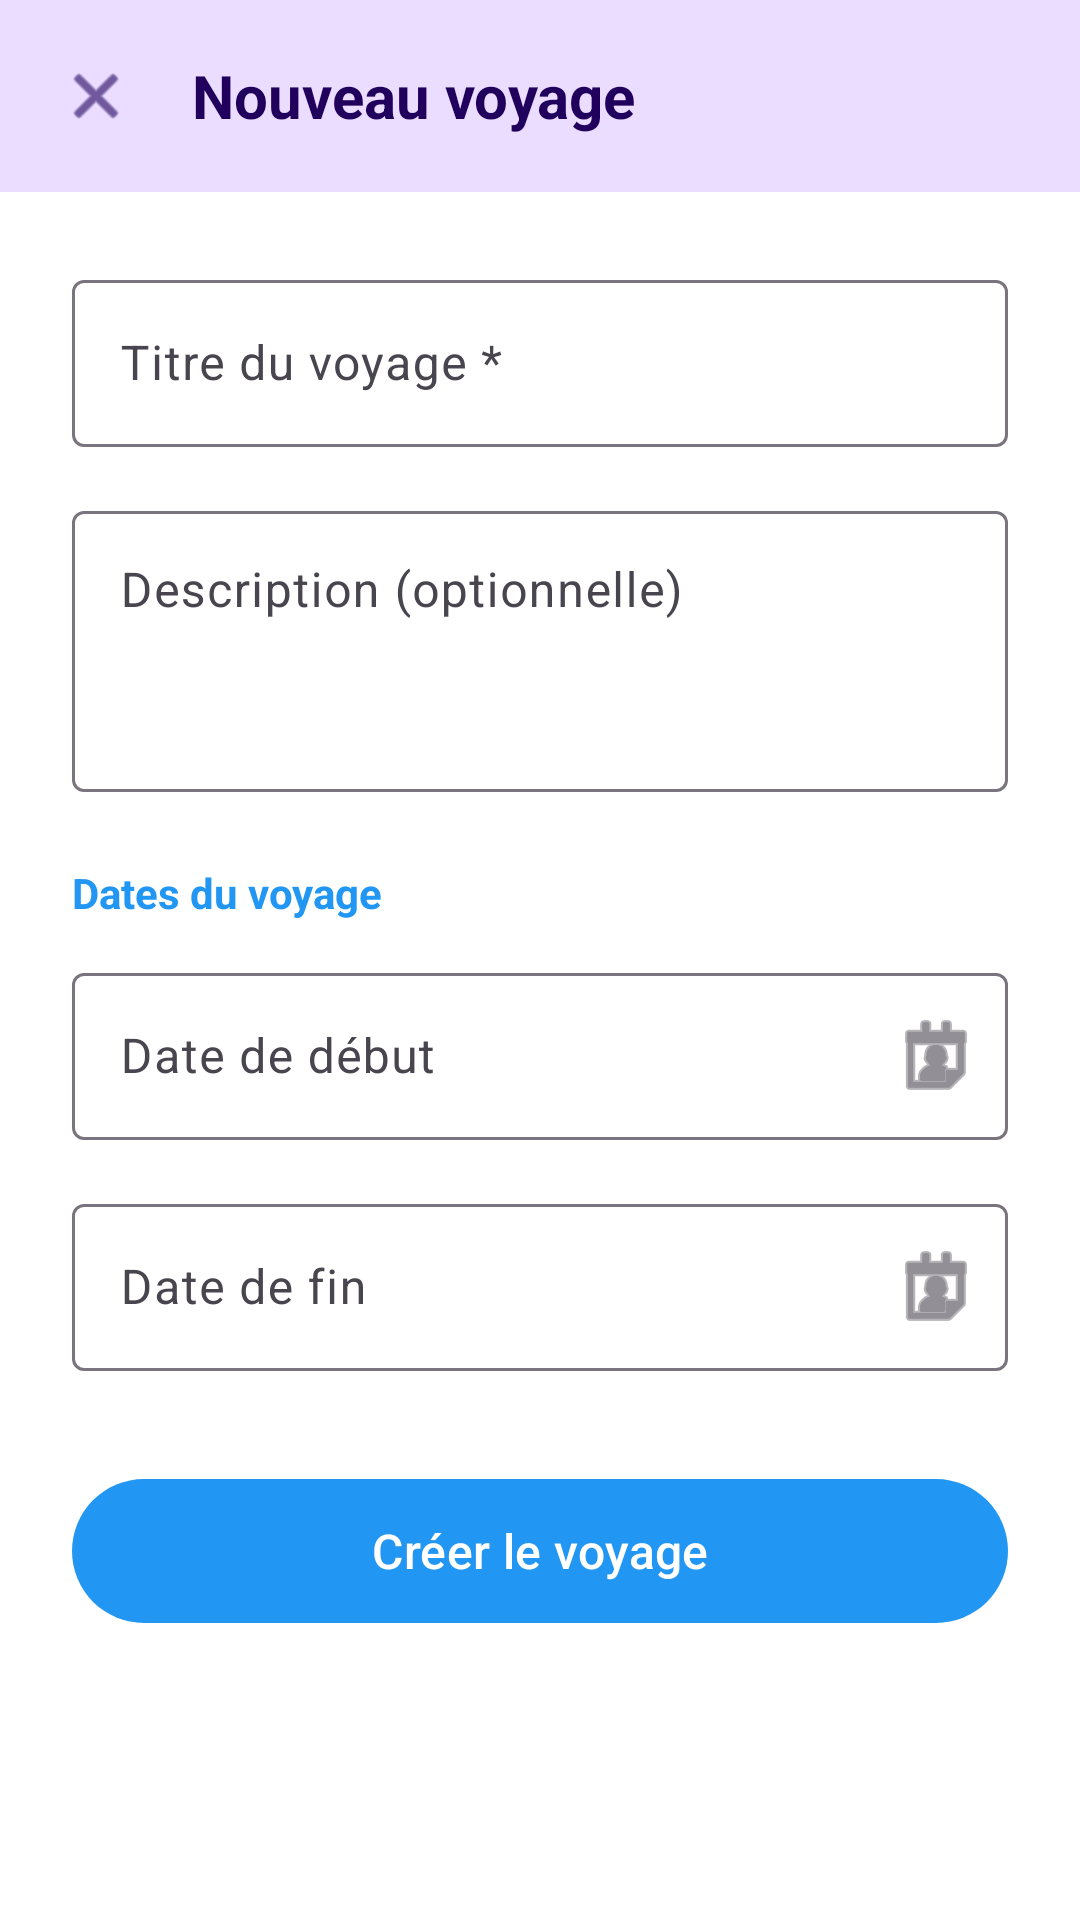

Named icons in this screenshot (1080px×1920px) and their bounding boxes, (x1, y1, x2, y2):
close clear cancel: (73, 73, 119, 119)
